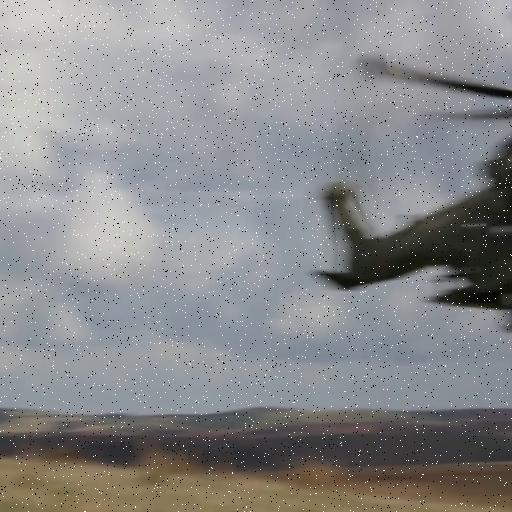helicopter: (318, 54, 512, 327)
